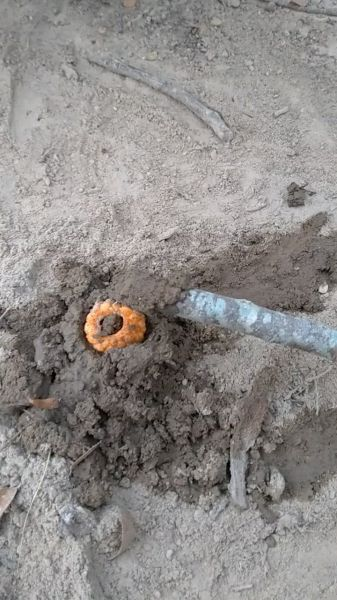eggs: (80, 298, 155, 357)
